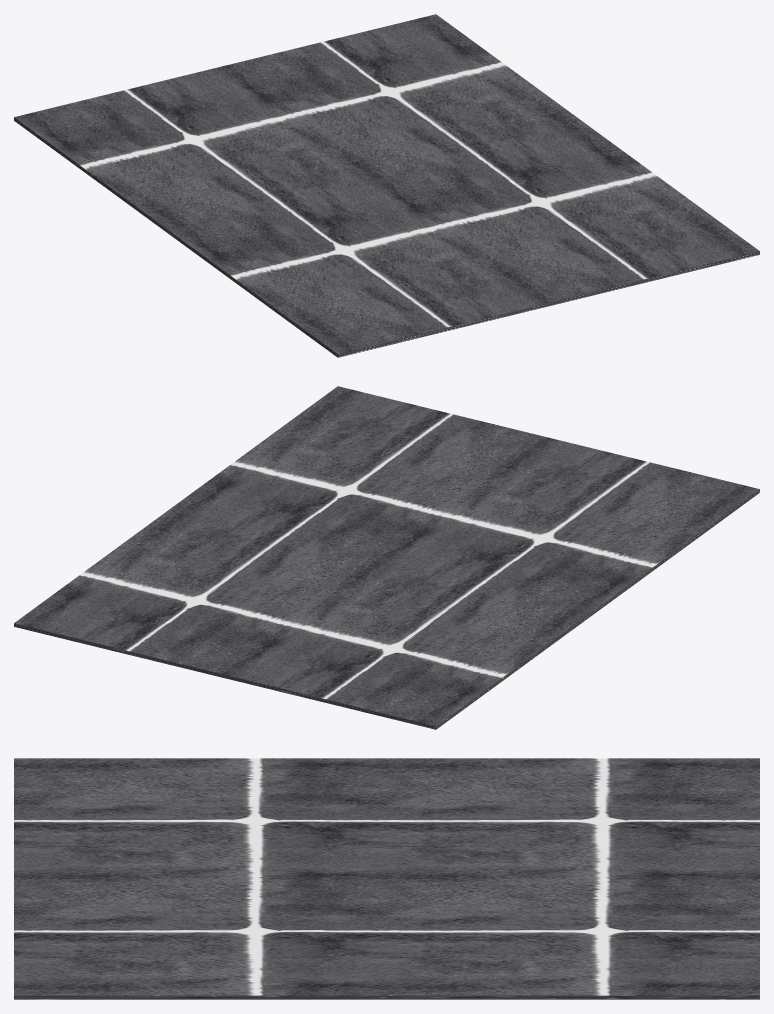
File: tapete.obj
The picture shows the model from 3 angles, top to bottom: view 1: azimuth 30°, elevation 25°; view 2: azimuth 150°, elevation 25°; view 3: azimuth 270°, elevation 25°; orthographic projection. The views are drawn at different scales.
Visible parts, largest first — view 1: pCube1; view 2: pCube1; view 3: pCube1.
Boxes of the visible parts, box(x1,y1,x2,y2) form: pCube1: box(14, 14, 759, 357); pCube1: box(14, 386, 759, 729); pCube1: box(14, 758, 759, 999).
Bounding box in the file's own units: 7.85 × 0.0635 × 10.43.
1 material, 1 textured.
